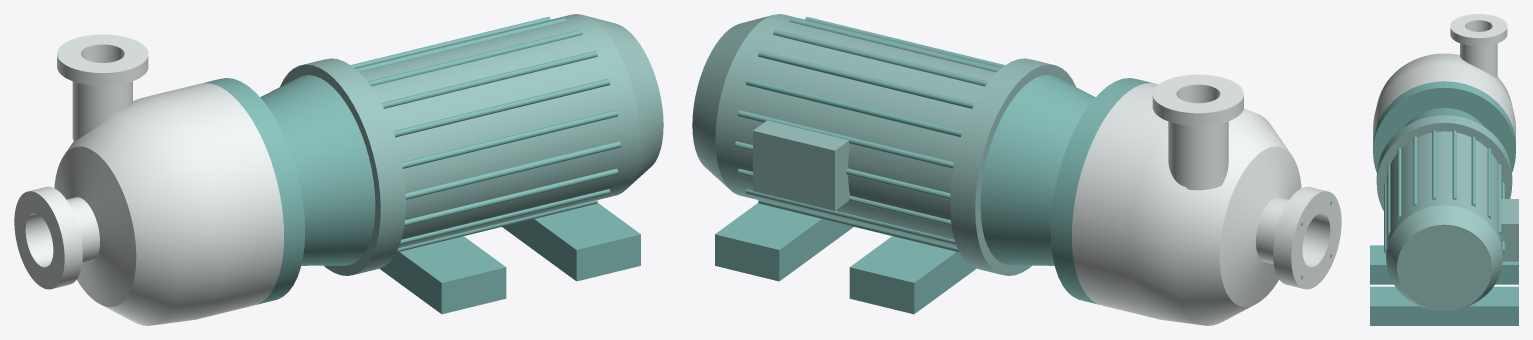
3 renders of one model, left to right at view 1: azimuth 30°, elevation 25°; view 2: azimuth 150°, elevation 25°; view 3: azimuth 270°, elevation 25°, orthographic. The views are drawn at different scales.
Parts seen in each view (by area): view 1: 泵体_圆弧壳与轴向进液口, 电机_带筋机壳, 连接座_短连接段, 支脚_电机底脚 (×2), 电机_连接法兰, 连接座_泵壳连接环, 接口_朝上出液法兰, 电机_圆弧尾罩, 接口_偏置竖向出液管, 电机_散热筋09, 电机_散热筋08, 电机_散热筋10 (+7 smaller); view 2: 泵体_圆弧壳与轴向进液口, 电机_带筋机壳, 连接座_短连接段, 支脚_电机底脚 (×2), 电机_连接法兰, 电机_接线盒, 连接座_泵壳连接环, 接口_朝上出液法兰, 接口_偏置竖向出液管, 电机_圆弧尾罩, 电机_散热筋03, 电机_散热筋04 (+8 smaller); view 3: 电机_圆弧尾罩, 电机_带筋机壳, 支脚_电机底脚 (×2), 连接座_泵壳连接环, 泵体_圆弧壳与轴向进液口, 电机_连接法兰, 接口_朝上出液法兰, 电机_接线盒, 接口_偏置竖向出液管, 连接座_短连接段, 电机_散热筋03, 电机_散热筋08 (+7 smaller).
Boxes of the visible parts, bbox=[...] form: 泵体_圆弧壳与轴向进液口: bbox=[14, 83, 283, 325]; 电机_带筋机壳: bbox=[354, 14, 640, 248]; 连接座_短连接段: bbox=[260, 75, 375, 265]; 支脚_电机底脚 (×2): bbox=[379, 203, 640, 314]; 电机_连接法兰: bbox=[280, 58, 405, 275]; 连接座_泵壳连接环: bbox=[203, 78, 305, 304]; 接口_朝上出液法兰: bbox=[57, 34, 148, 85]; 电机_圆弧尾罩: bbox=[584, 15, 663, 187]; 接口_偏置竖向出液管: bbox=[72, 57, 132, 141]; 电机_散热筋09: bbox=[401, 110, 618, 168]; 电机_散热筋08: bbox=[393, 79, 610, 137]; 电机_散热筋10: bbox=[405, 141, 620, 199]; 泵体_圆弧壳与轴向进液口: bbox=[1072, 83, 1341, 325]; 电机_带筋机壳: bbox=[715, 14, 1001, 248]; 连接座_短连接段: bbox=[980, 75, 1095, 265]; 支脚_电机底脚 (×2): bbox=[715, 203, 976, 314]; 电机_连接法兰: bbox=[950, 58, 1075, 275]; 电机_接线盒: bbox=[753, 120, 850, 210]; 连接座_泵壳连接环: bbox=[1050, 78, 1152, 304]; 接口_朝上出液法兰: bbox=[1152, 74, 1243, 126]; 接口_偏置竖向出液管: bbox=[1168, 97, 1228, 190]; 电机_圆弧尾罩: bbox=[692, 15, 771, 187]; 电机_散热筋03: bbox=[745, 79, 962, 137]; 电机_散热筋04: bbox=[758, 51, 974, 108]; 电机_圆弧尾罩: bbox=[1386, 205, 1502, 310]; 电机_带筋机壳: bbox=[1386, 131, 1502, 257]; 支脚_电机底脚 (×2): bbox=[1370, 245, 1518, 325]; 连接座_泵壳连接环: bbox=[1373, 81, 1515, 172]; 泵体_圆弧壳与轴向进液口: bbox=[1373, 53, 1515, 143]; 电机_连接法兰: bbox=[1376, 115, 1512, 210]; 接口_朝上出液法兰: bbox=[1450, 14, 1507, 46]; 电机_接线盒: bbox=[1501, 199, 1518, 261]; 接口_偏置竖向出液管: bbox=[1460, 28, 1497, 77]; 连接座_短连接段: bbox=[1404, 108, 1484, 126]; 电机_散热筋03: bbox=[1487, 148, 1491, 218]; 电机_散热筋08: bbox=[1397, 148, 1401, 218].
Bounding box in the file's own units: 0.74 × 0.312 × 0.26.
